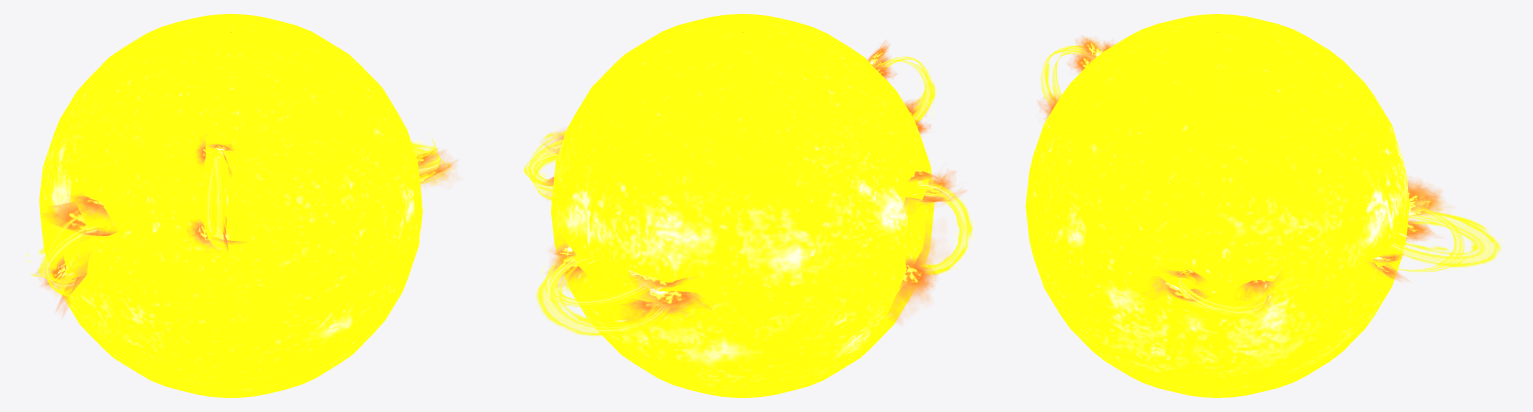
The model's file is solar.glb.
3 renders of one model, left to right at view 1: azimuth 30°, elevation 25°; view 2: azimuth 150°, elevation 25°; view 3: azimuth 270°, elevation 25°, orthographic.
Visible parts, largest first — view 1: Sphere.001, Cylinder.002, Cylinder.005, Cylinder.004, Cylinder.003, Plane.003, Plane.005, Plane.016, Cylinder.001, Plane.011, Plane.010, Plane.013; view 2: Sphere.001, Cylinder.006, Cylinder.007, Cylinder.003, Plane.011, Cylinder.001, Plane.004, Plane.010, Cylinder.002, Cylinder.004, Plane.006, Plane.008 (+4 smaller); view 3: Sphere.001, Cylinder.006, Cylinder.001, Cylinder.007, Cylinder, Plane.004, Plane.001, Plane.016, Cylinder.005, Plane.006, Plane.019, Plane.000.
Boxes of the visible parts, x1,y1,x2,y2 form: Sphere.001: (39,14,422,397); Cylinder.002: (22,210,98,283); Cylinder.005: (208,157,230,235); Cylinder.004: (199,152,229,233); Cylinder.003: (40,212,93,297); Plane.003: (44,202,103,236); Plane.005: (63,193,110,219); Plane.016: (419,150,457,185); Cylinder.001: (412,133,440,179); Plane.011: (56,253,90,316); Plane.010: (36,256,66,294); Plane.013: (187,219,222,249); Sphere.001: (551,14,934,397); Cylinder.006: (536,258,669,339); Cylinder.007: (540,256,661,313); Cylinder.003: (913,179,976,274); Plane.011: (888,223,946,323); Cylinder.001: (529,126,565,201); Plane.004: (637,278,710,311); Plane.010: (900,258,936,294); Cylinder.002: (917,181,970,279); Cylinder.004: (875,60,935,122); Plane.006: (622,299,687,321); Plane.008: (547,241,585,286); Sphere.001: (1025,14,1409,397); Cylinder.006: (1389,209,1504,267); Cylinder.001: (1178,258,1267,319); Cylinder.007: (1378,205,1472,273); Cylinder: (1167,288,1271,312); Plane.004: (1408,183,1450,215); Plane.001: (1407,177,1435,213); Plane.016: (1151,276,1208,301); Cylinder.005: (1041,46,1085,105); Plane.006: (1405,219,1441,241); Plane.019: (1239,275,1280,298); Plane.000: (1075,36,1106,60).
Bounding box in the file's own units: 2.71 × 2 × 2.59.
Materials: 4 (4 with a texture image).
